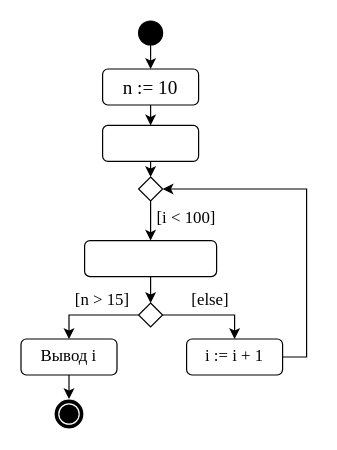
This 337x450 diagram has some shape labels left out. The box of each missing label's shape, as (x1, y1, x2, y2) in pixels:
i := 1: (101, 124, 199, 161)
n := n + (n / 10): (83, 239, 217, 277)
